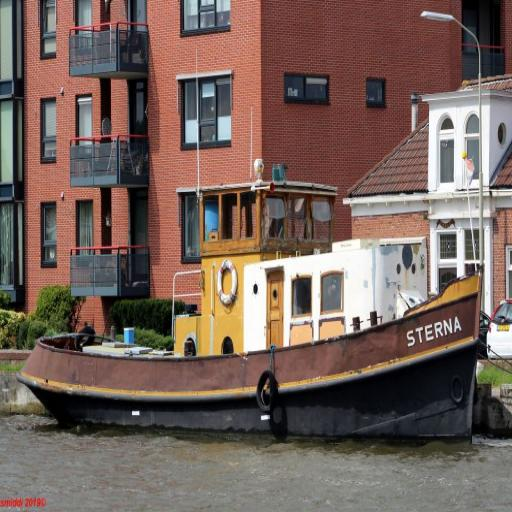tugboat: (16, 157, 489, 465)
